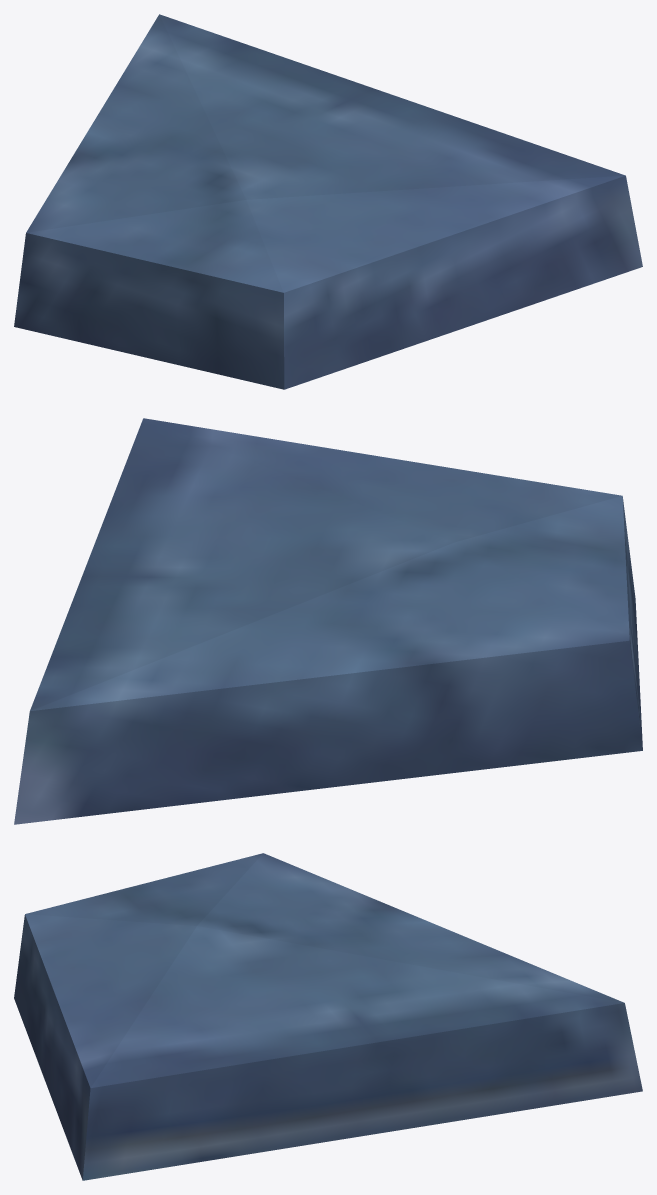
Rendered from Area07_25.fbx.
3 views of the same model, one above another, from view 1: azimuth 30°, elevation 25°; view 2: azimuth 150°, elevation 25°; view 3: azimuth 270°, elevation 25° (orthographic). The views are drawn at different scales.
Visible parts, largest first — view 1: Area07_25; view 2: Area07_25; view 3: Area07_25.
Part boxes in pixels (<box>): Area07_25: <box>14,14,642,389</box>; Area07_25: <box>14,418,642,824</box>; Area07_25: <box>14,853,642,1180</box>.
Bounding box in the file's own units: 183 × 34.36 × 197.
1 material, 1 textured.
